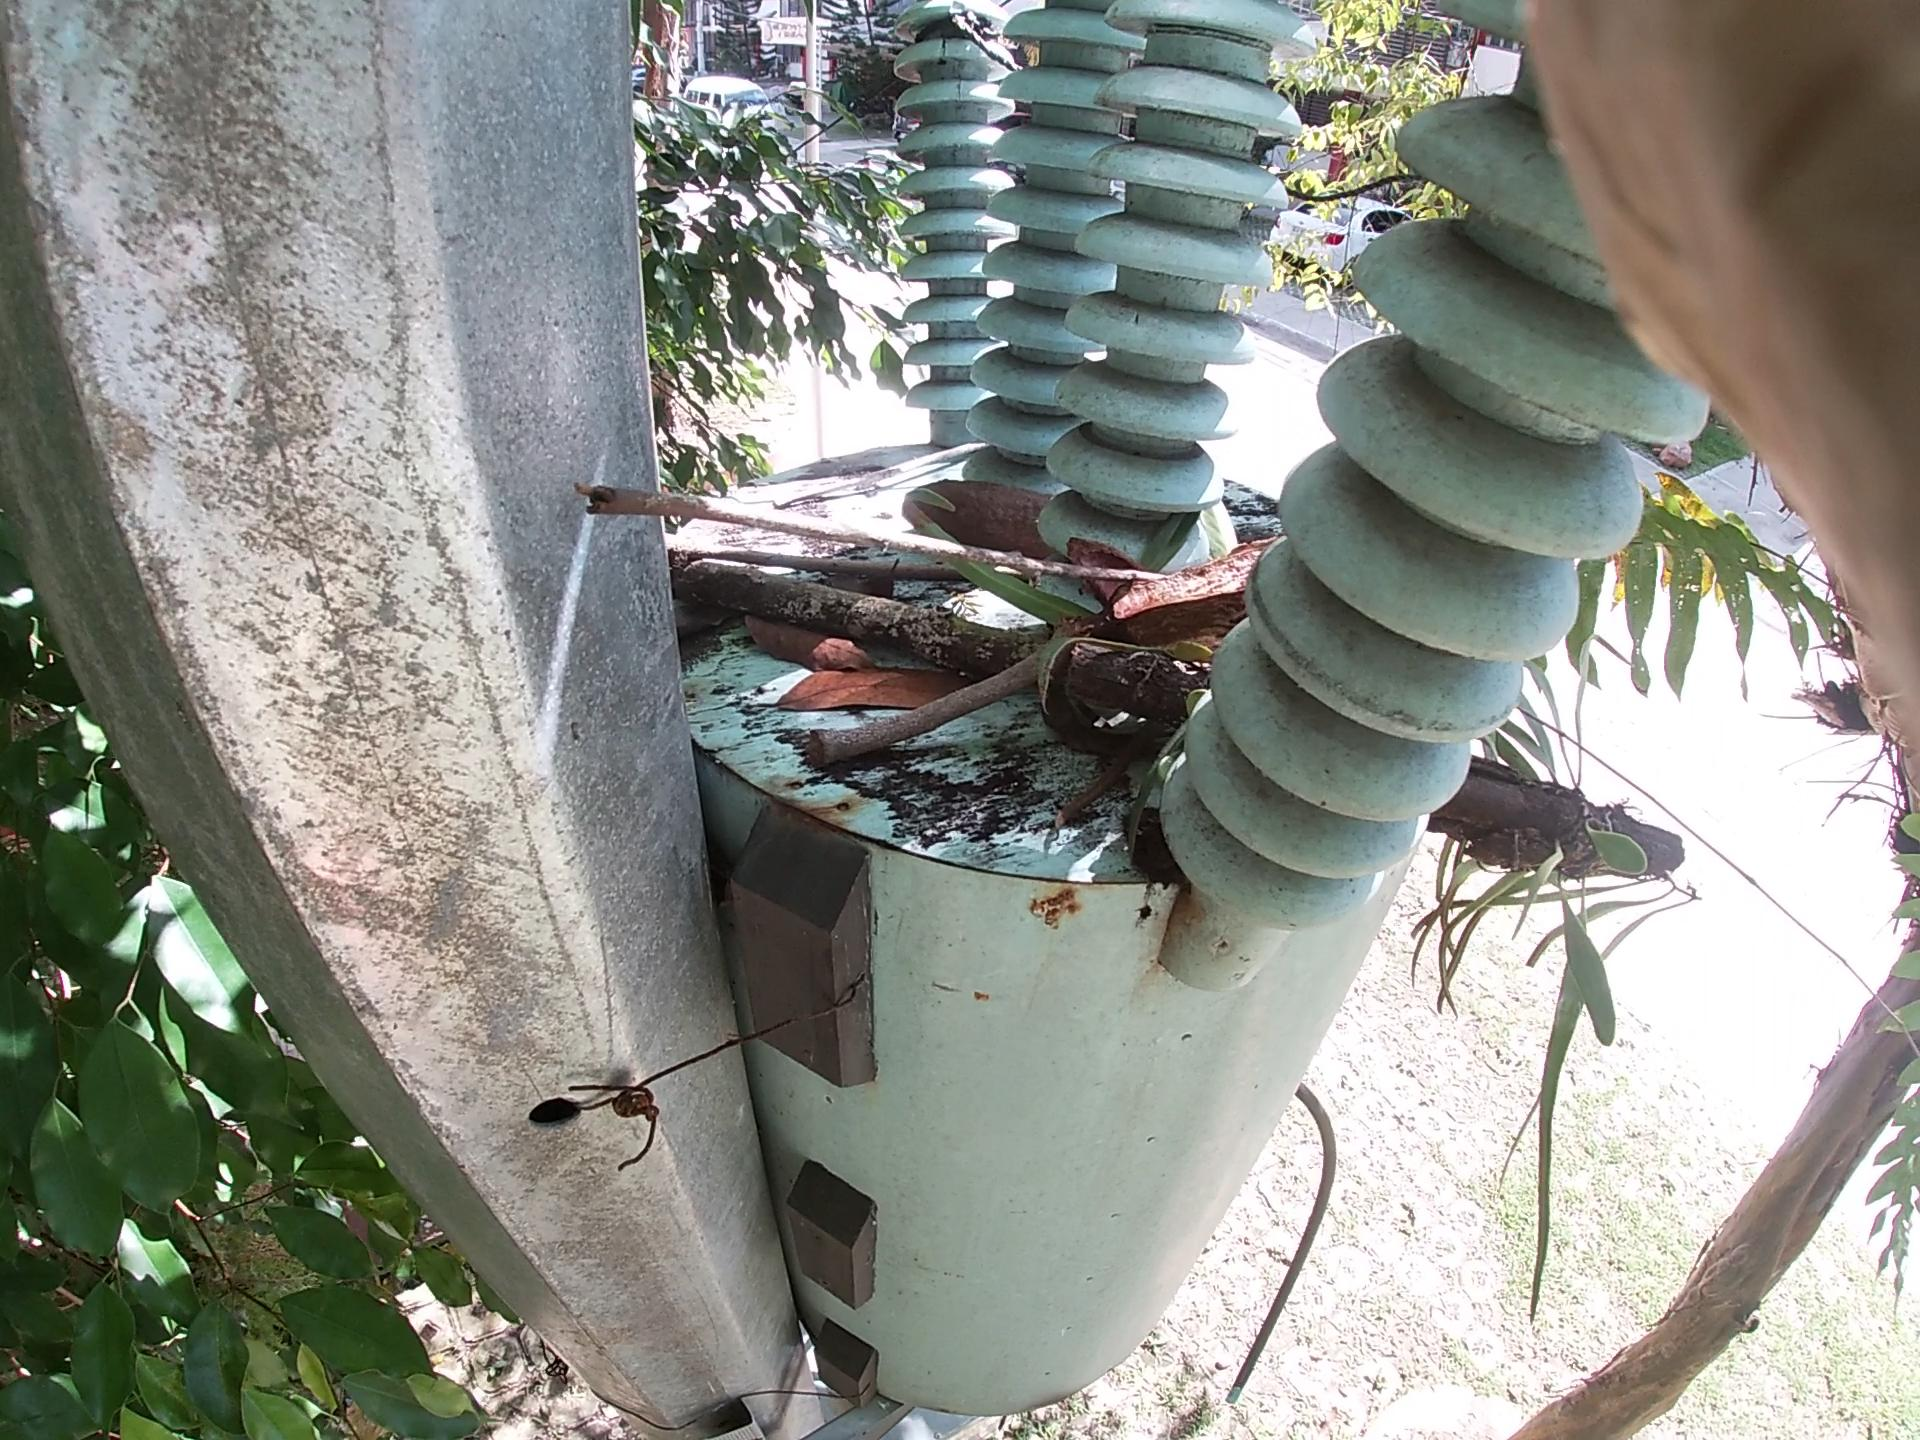leaf: (760, 602, 980, 709)
mahogany fruit: (887, 442, 1141, 591), (1072, 546, 1333, 691)
tree branch: (680, 522, 1920, 909), (791, 445, 1392, 790), (570, 449, 1172, 593)
